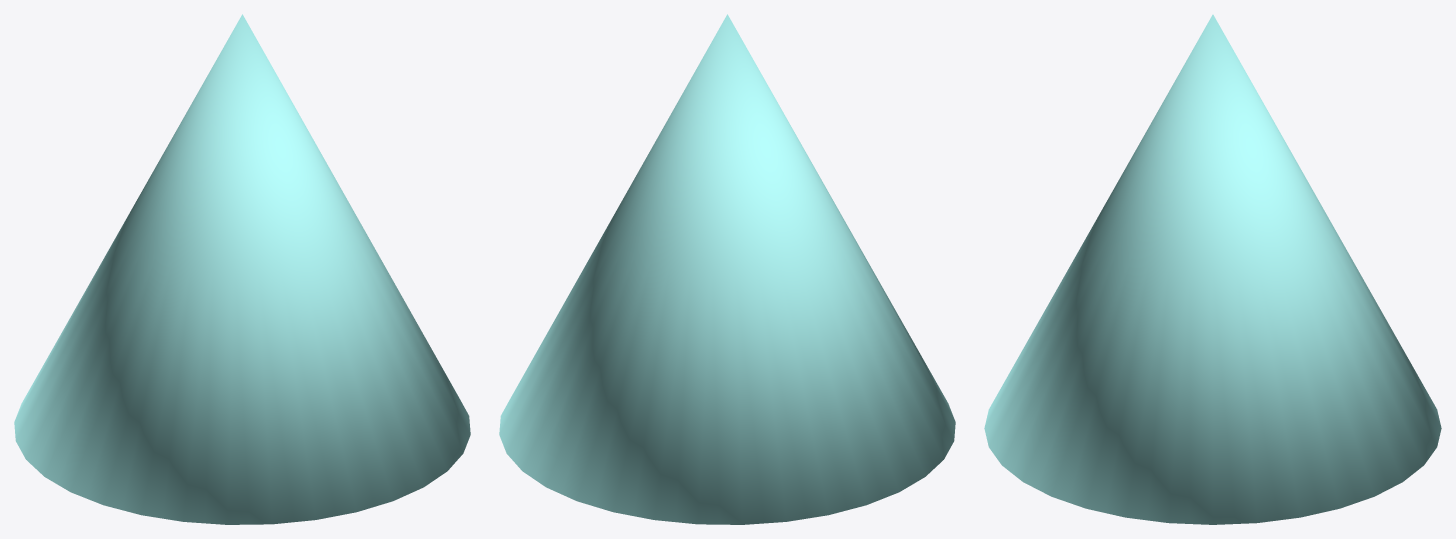
The picture shows the model from 3 angles, left to right: view 1: azimuth 30°, elevation 25°; view 2: azimuth 150°, elevation 25°; view 3: azimuth 270°, elevation 25°; orthographic projection.
Parts seen in each view (by area): view 1: Cone; view 2: Cone; view 3: Cone.
Boxes of the visible parts, <box> form: Cone: <box>14,14,470,524</box>; Cone: <box>499,14,955,524</box>; Cone: <box>984,14,1441,524</box>.
Bounding box in the file's own units: 2 × 2 × 2.
